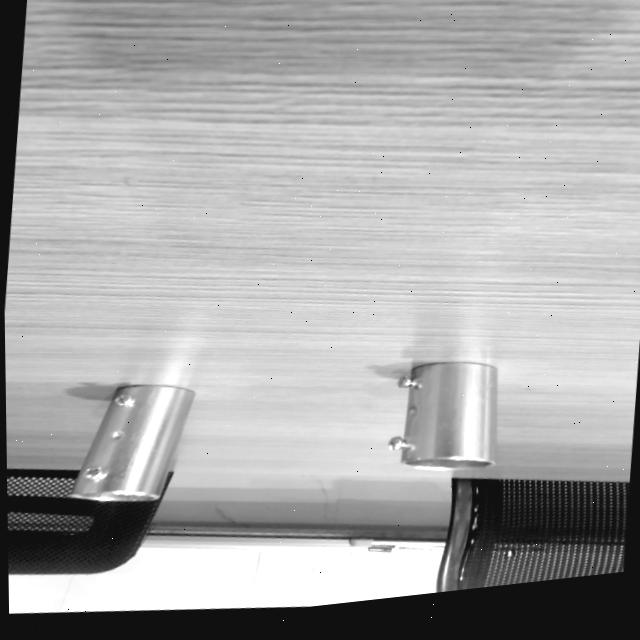Co_Lon: (70, 364, 197, 524)
Co_Nho: (388, 359, 500, 472)
